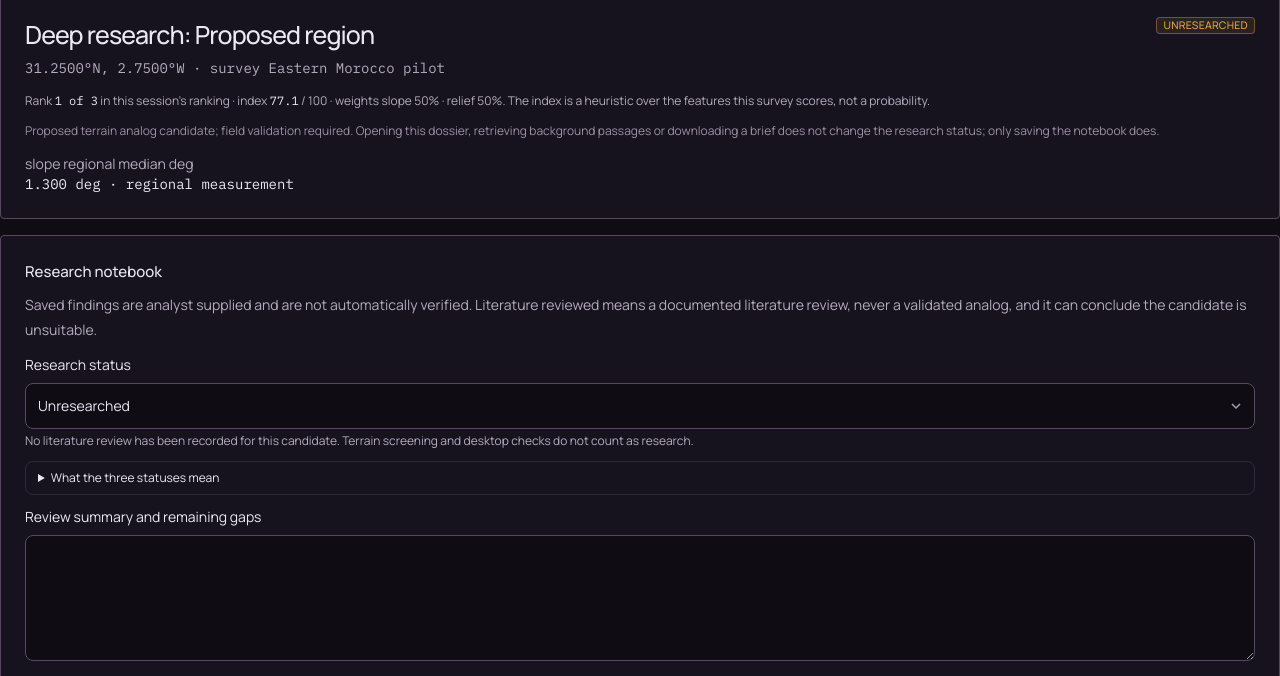
Test: candidate deep research › keeps newer edits when an older save finishes
Check: the heading "Deep research: Proposed region" is shown, box [25,17,374,52]
Type "Submitted notes" into the text box labelled "Review summary and remaining gaps" at (640, 598), box [25,535,1255,661]
(page scrolled)
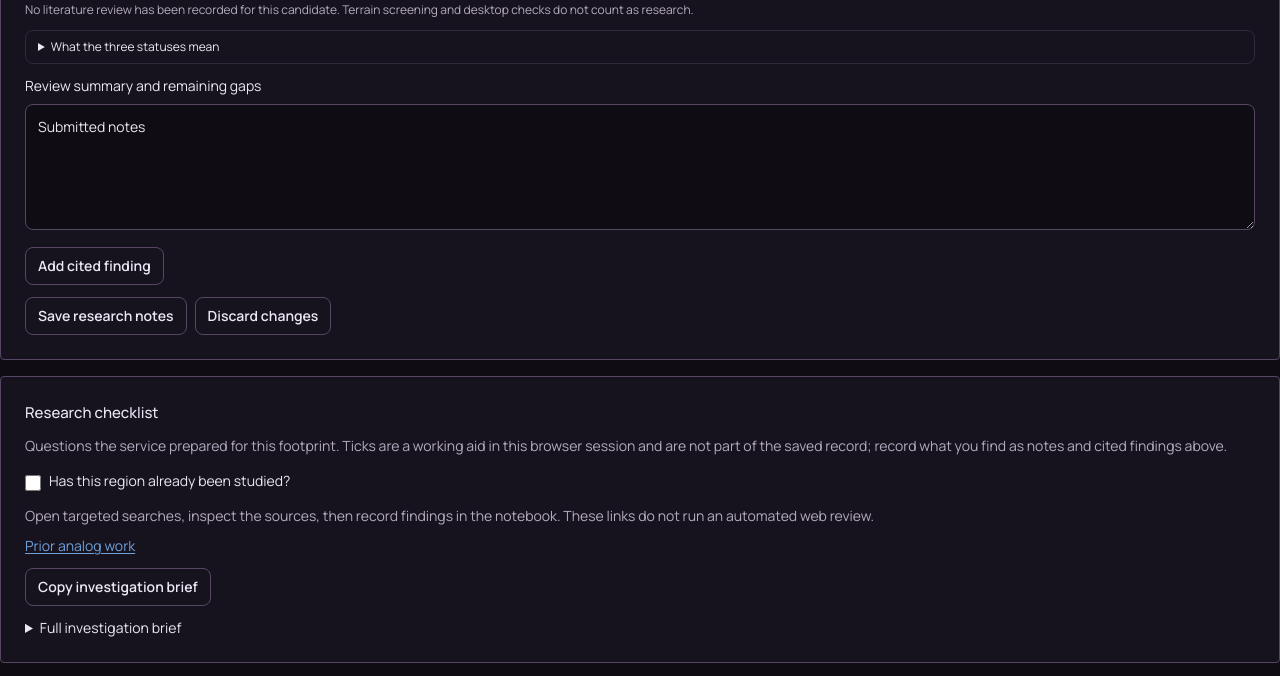
Click the button "Save research notes" at (106, 316), box [25,297,186,335]
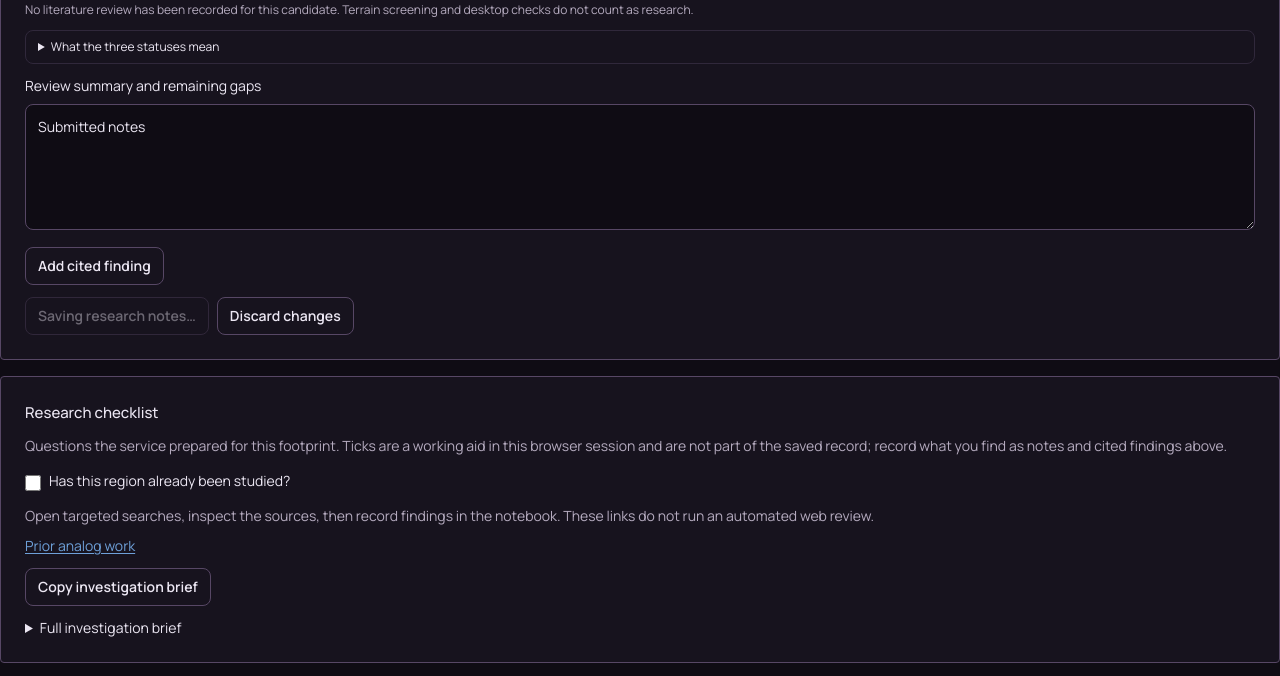
Replace the text in the text box labelled "Review summary and remaining gaps" with "Newer notes must survive" at (640, 167), box [25,104,1255,230]
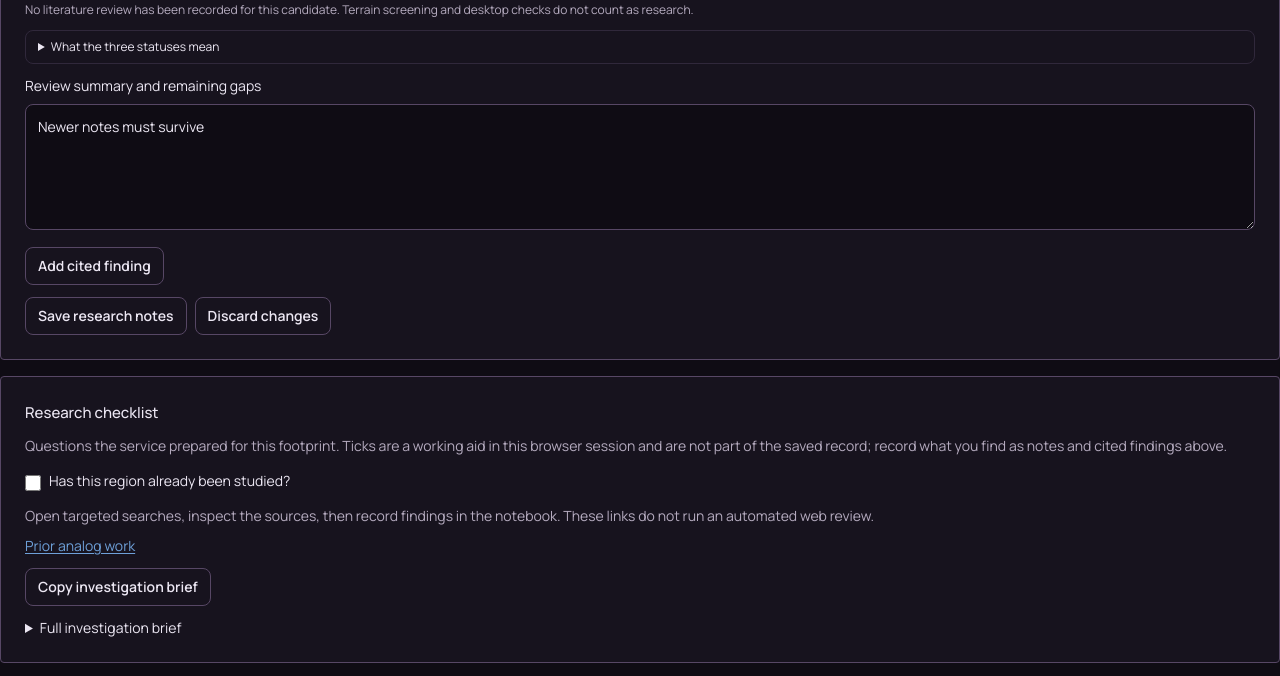
Check: the button "Saving research notes…" is gone
